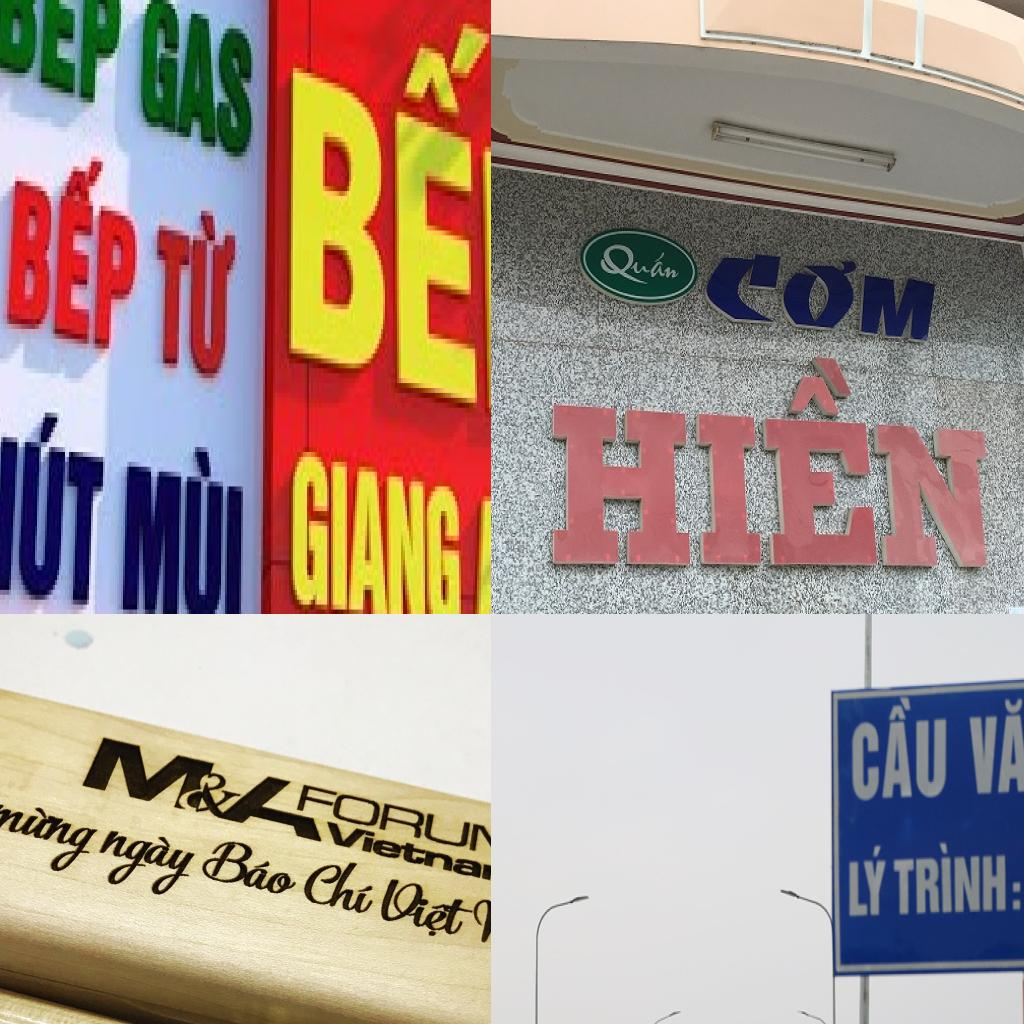text: (540, 341, 993, 571), (283, 0, 491, 457), (0, 122, 147, 378), (291, 437, 465, 614), (78, 732, 326, 846), (0, 383, 117, 614), (701, 238, 941, 350), (117, 417, 251, 614), (133, 0, 263, 181), (151, 181, 245, 398), (0, 0, 131, 132), (325, 819, 491, 890), (81, 819, 207, 903), (851, 694, 948, 802), (892, 838, 1022, 918), (0, 794, 108, 878), (195, 834, 307, 902), (371, 874, 478, 944), (296, 851, 388, 918), (965, 696, 1024, 796), (596, 240, 682, 288), (848, 844, 888, 919), (462, 894, 491, 966)
